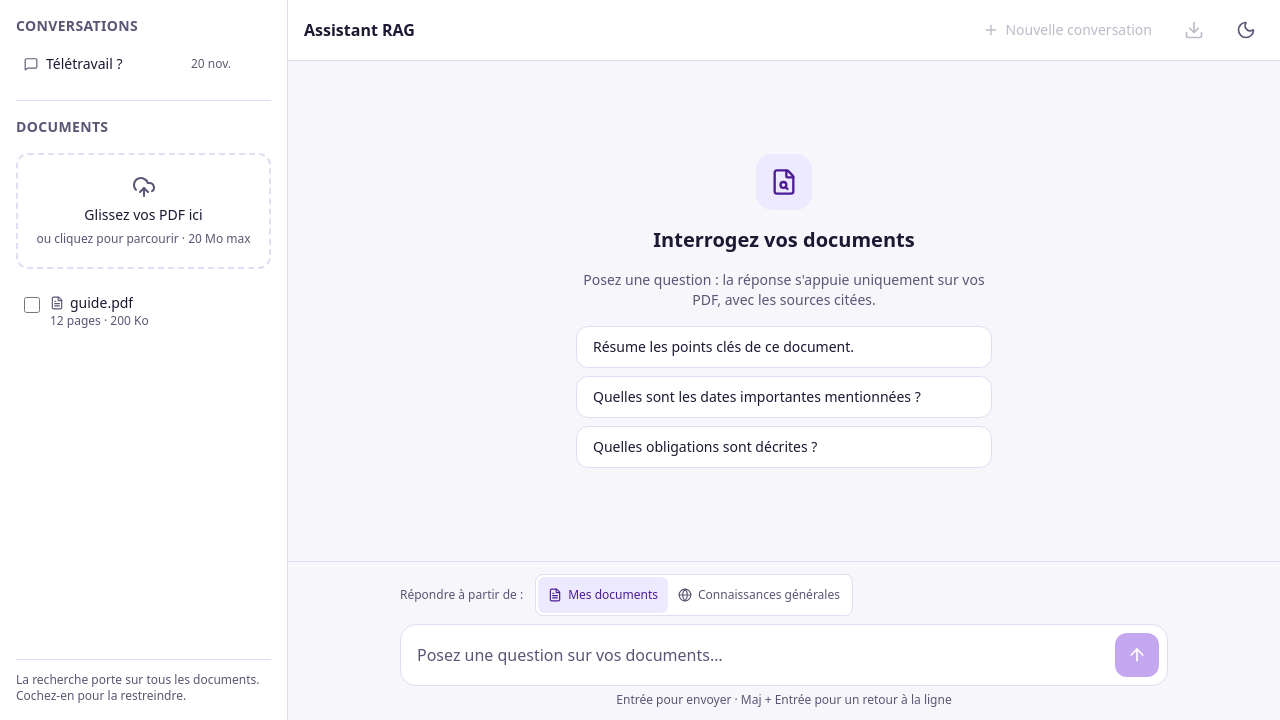
Test case: App › lists past conversations, opens one and deletes it
Later steps or results of the test are not shown.
Click the button "Télétravail ? 20 nov." at (128, 64), box [16,44,239,84]
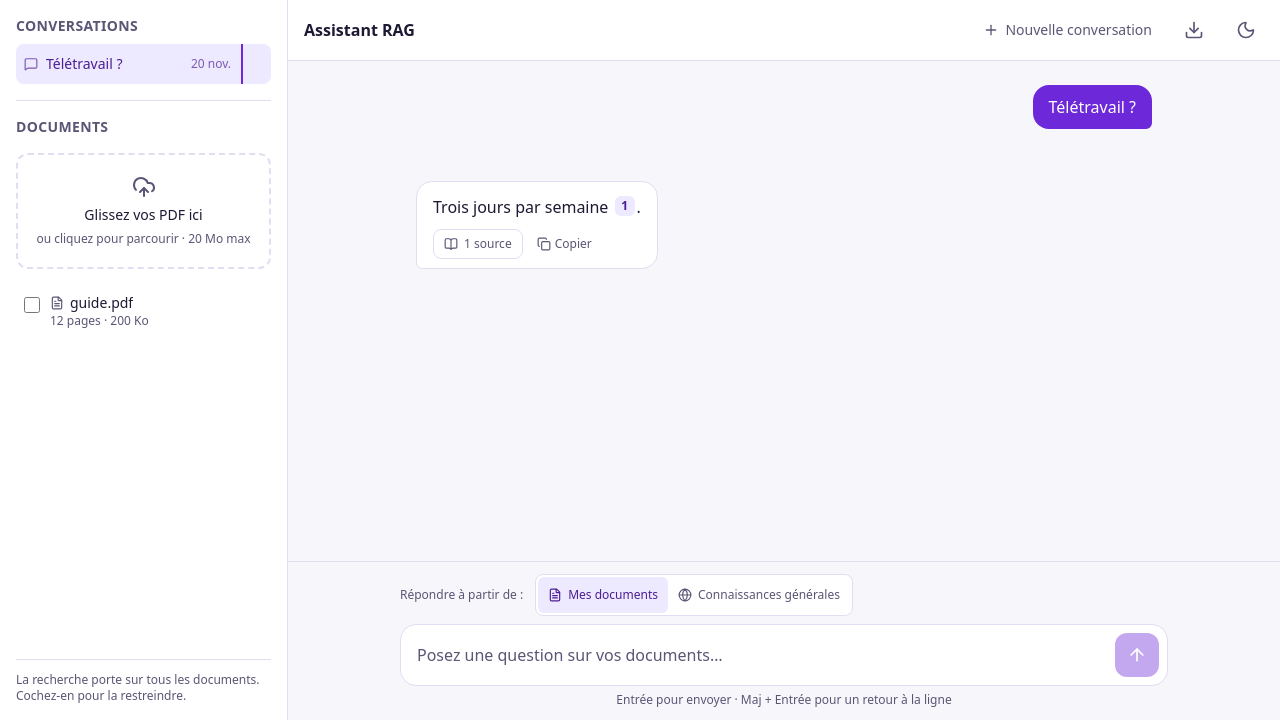
Expected: the text "Trois jours par semaine 1 ." is shown, [433,194,641,220]
